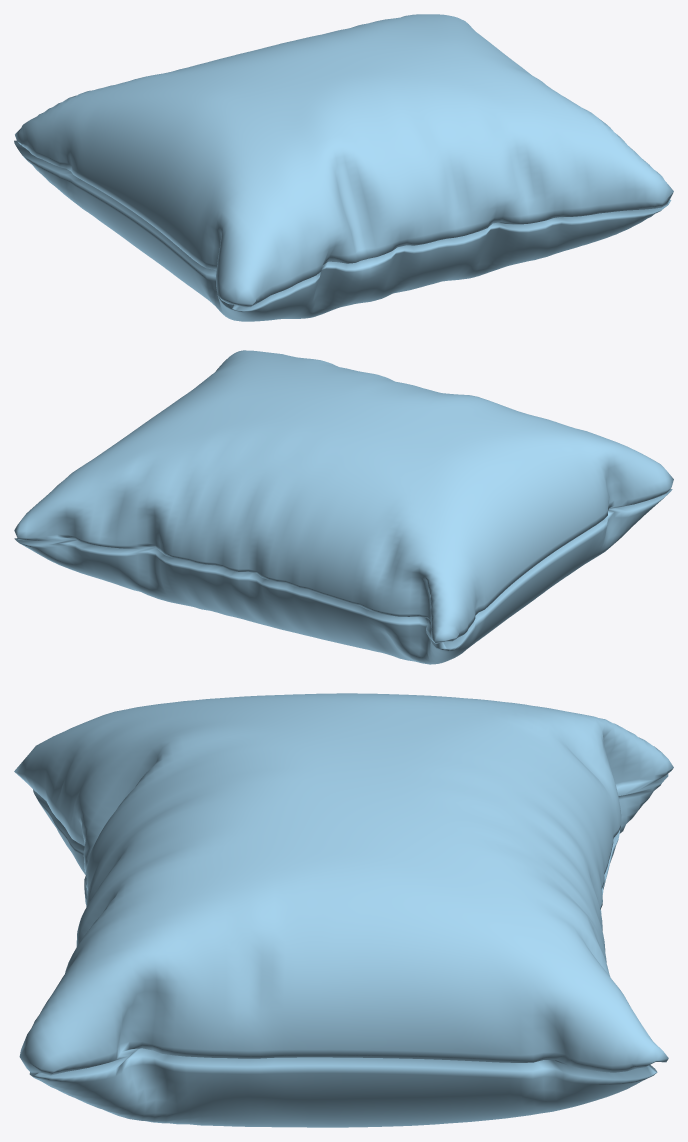
The model's file is 3_pill.glb.
The picture shows the model from 3 angles, top to bottom: view 1: azimuth 30°, elevation 25°; view 2: azimuth 150°, elevation 25°; view 3: azimuth 270°, elevation 25°; orthographic projection. The views are drawn at different scales.
Parts seen in each view (by area): view 1: Pillow 03; view 2: Pillow 03; view 3: Pillow 03.
Boxes of the visible parts, bbox=[...] form: Pillow 03: bbox=[14, 14, 673, 321]; Pillow 03: bbox=[14, 350, 673, 664]; Pillow 03: bbox=[14, 693, 673, 1127].
Size of the model in its own units: 0.4867 by 0.2081 by 0.4349.
